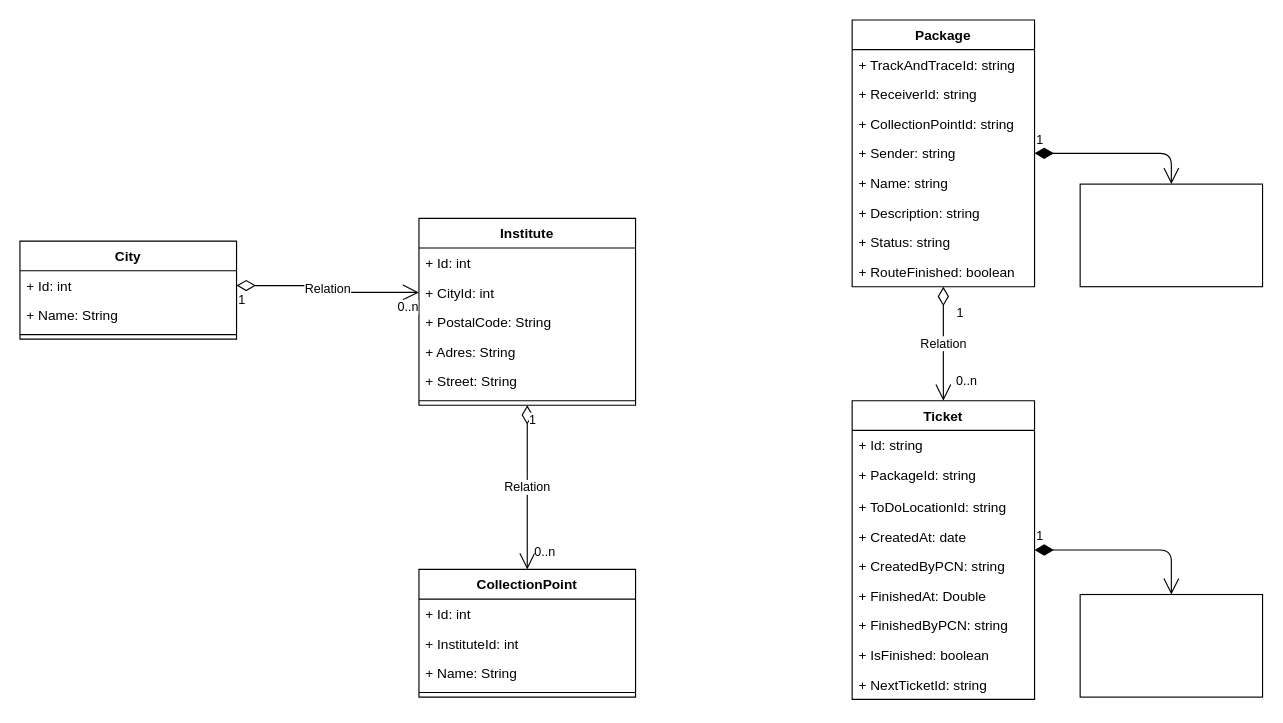
Image size: 1283x723. Some labels were removed from this diagram. Each missing label, with the centre of its shape:
"Status: Enum Damaged, OK" goes at point (1171, 235).
"TicketAction: Enum Registered, Received, On the way" goes at point (1171, 645).
